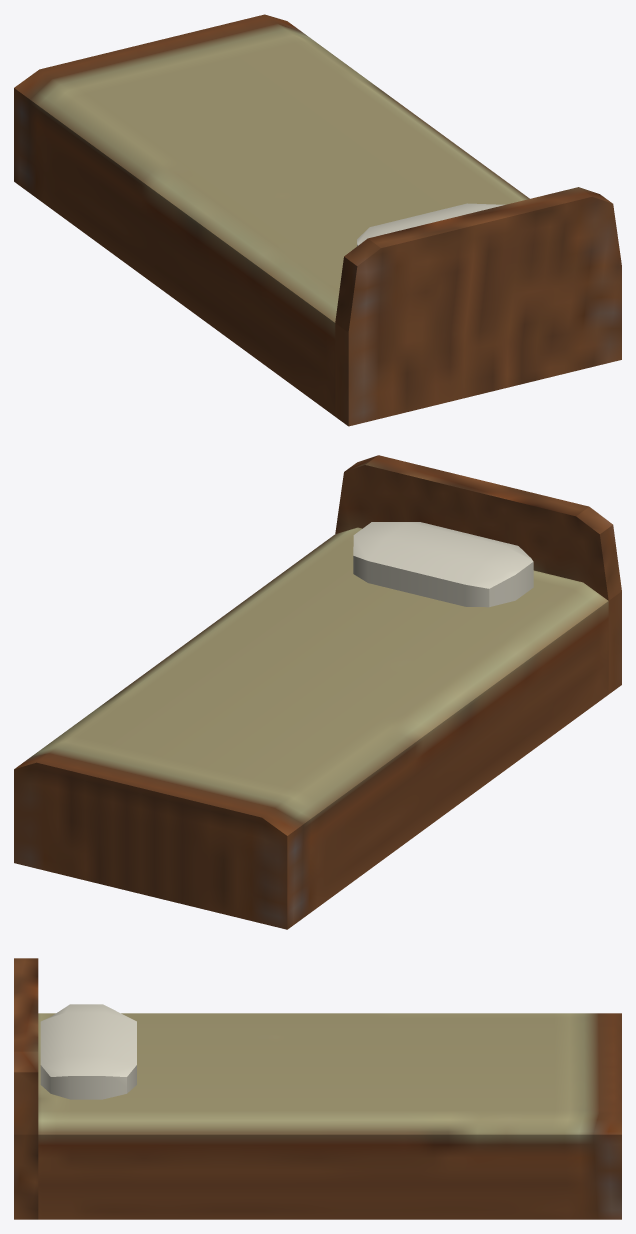
The model's file is Bed.fbx.
3 renders of one model, top to bottom at view 1: azimuth 30°, elevation 25°; view 2: azimuth 150°, elevation 25°; view 3: azimuth 270°, elevation 25°, orthographic. The views are drawn at different scales.
Parts seen in each view (by area): view 1: pCube10, pCube11; view 2: pCube10, pCube11; view 3: pCube10, pCube11.
Part boxes in pixels (bbox=[...]): pCube10: bbox=[14, 14, 621, 426]; pCube11: bbox=[357, 203, 504, 246]; pCube10: bbox=[14, 455, 621, 929]; pCube11: bbox=[353, 522, 533, 607]; pCube10: bbox=[14, 958, 621, 1219]; pCube11: bbox=[40, 1004, 136, 1099].
Bounding box in the file's own units: 0.3188 × 0.1898 × 0.6757.
